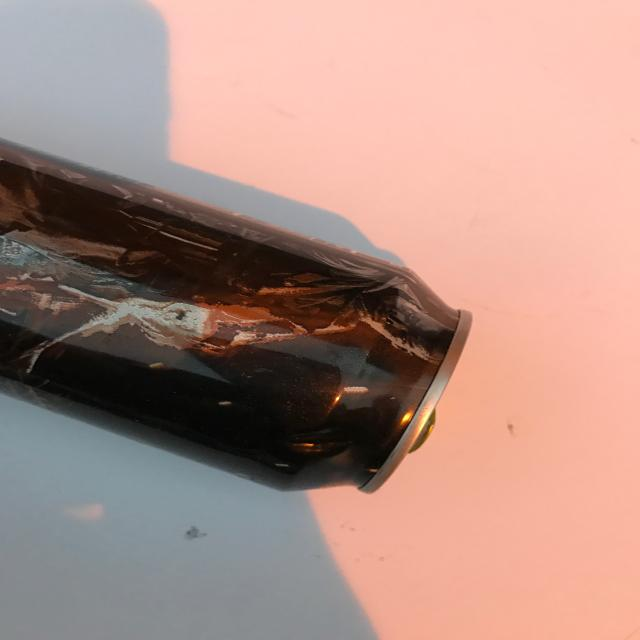metal: (0, 138, 472, 494)
